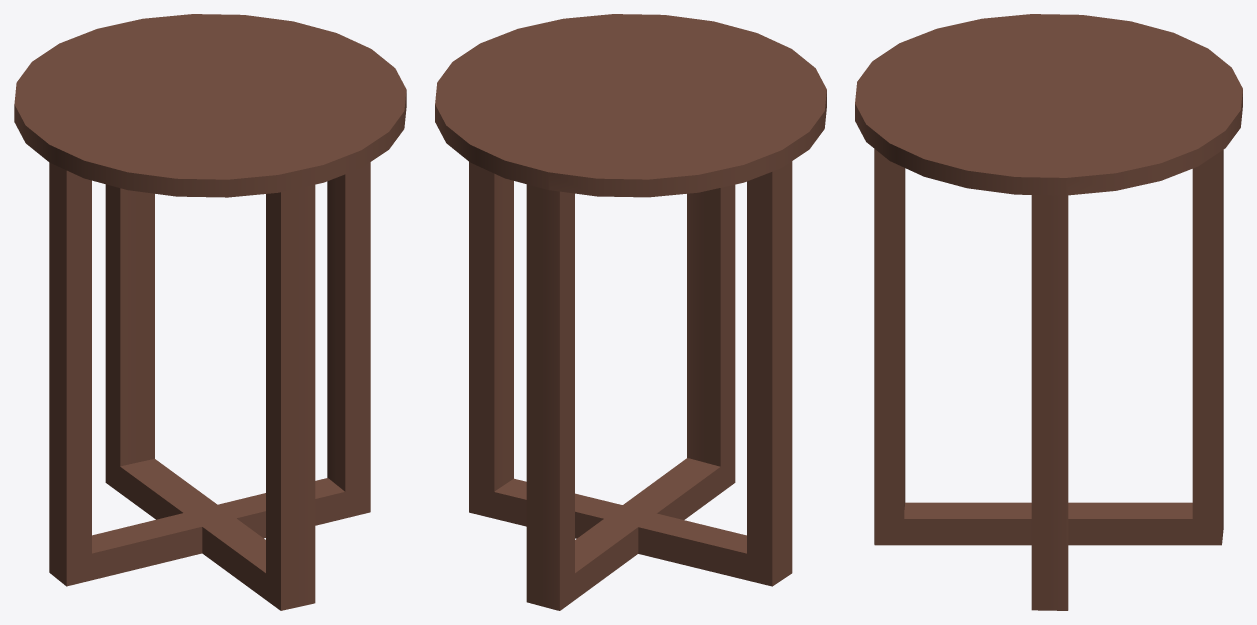
Rendered from endTable.fbx.
3 renders of one model, left to right at view 1: azimuth 30°, elevation 25°; view 2: azimuth 150°, elevation 25°; view 3: azimuth 270°, elevation 25°, orthographic.
Parts seen in each view (by area): view 1: endTable:polySurface1; view 2: endTable:polySurface1; view 3: endTable:polySurface1.
Boxes of the visible parts, <box> form: endTable:polySurface1: <box>14,14,406,610</box>; endTable:polySurface1: <box>435,14,826,610</box>; endTable:polySurface1: <box>855,14,1242,610</box>.
Bounding box in the file's own units: 56.76 × 71.24 × 56.76.
